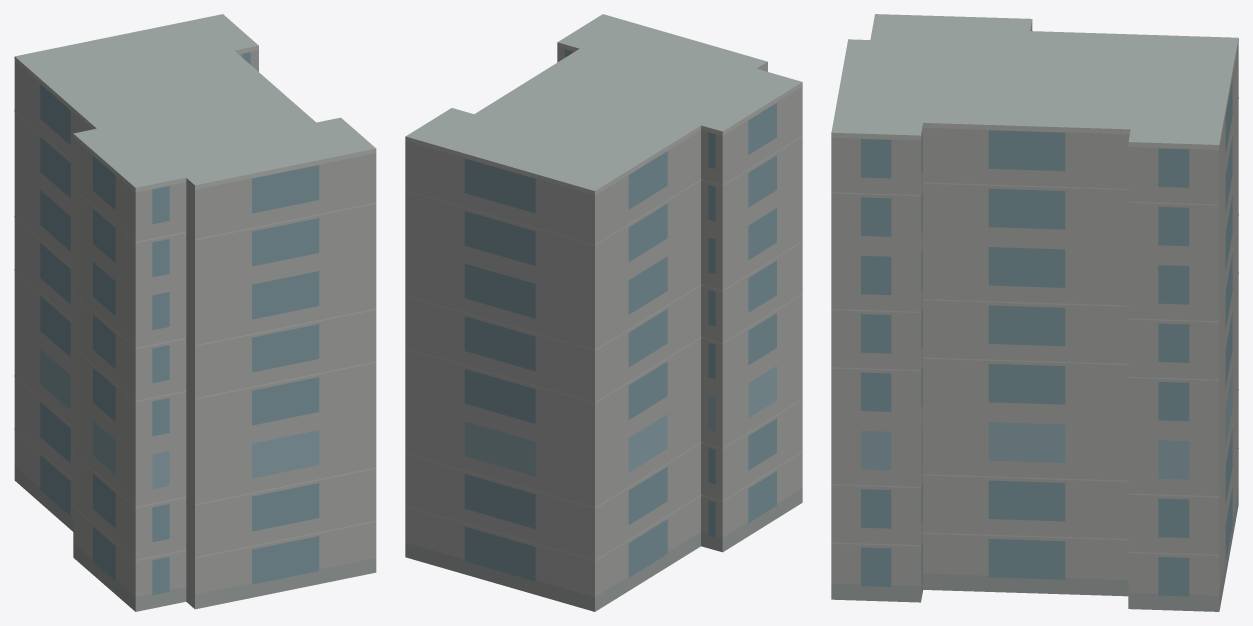
File: survey-upis-32760627.glb
3 renders of one model, left to right at view 1: azimuth 30°, elevation 25°; view 2: azimuth 150°, elevation 25°; view 3: azimuth 270°, elevation 25°, orthographic. The views are drawn at different scales.
Parts seen in each view (by area): view 1: survey-upis-32760627.tmp; view 2: survey-upis-32760627.tmp; view 3: survey-upis-32760627.tmp.
Boxes of the visible parts, <box> form: survey-upis-32760627.tmp: <box>14,14,376,611</box>; survey-upis-32760627.tmp: <box>405,14,802,611</box>; survey-upis-32760627.tmp: <box>831,14,1238,611</box>.
Bounding box in the file's own units: 13.86 × 23 × 18.21.
